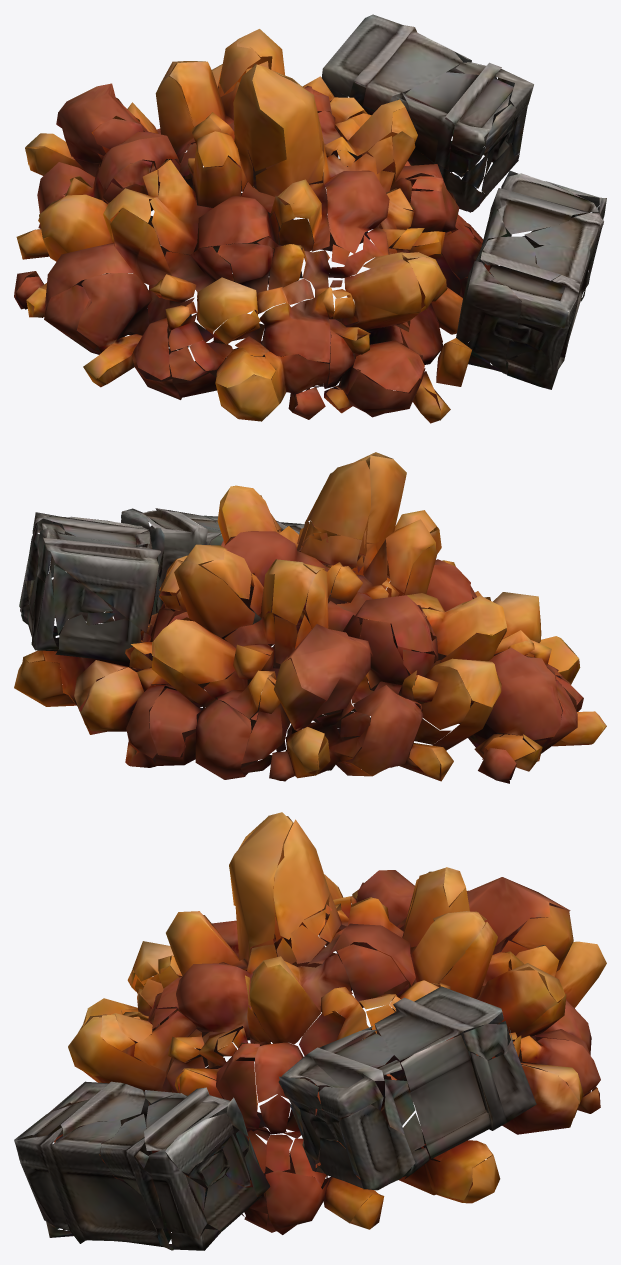
File: mars_ore_pile.glb
The picture shows the model from 3 angles, top to bottom: view 1: azimuth 30°, elevation 25°; view 2: azimuth 150°, elevation 25°; view 3: azimuth 270°, elevation 25°; orthographic projection. The views are drawn at different scales.
Parts seen in each view (by area): view 1: mars_ore_pile; view 2: mars_ore_pile; view 3: mars_ore_pile.
Boxes of the visible parts, x1=… form: mars_ore_pile: x1=14, y1=14, x2=606, y2=423; mars_ore_pile: x1=14, y1=452, x2=606, y2=783; mars_ore_pile: x1=14, y1=812, x2=606, y2=1250.
Size of the model in its own units: 6.52 by 3.79 by 5.98.
Materials: 1 (1 with a texture image).
